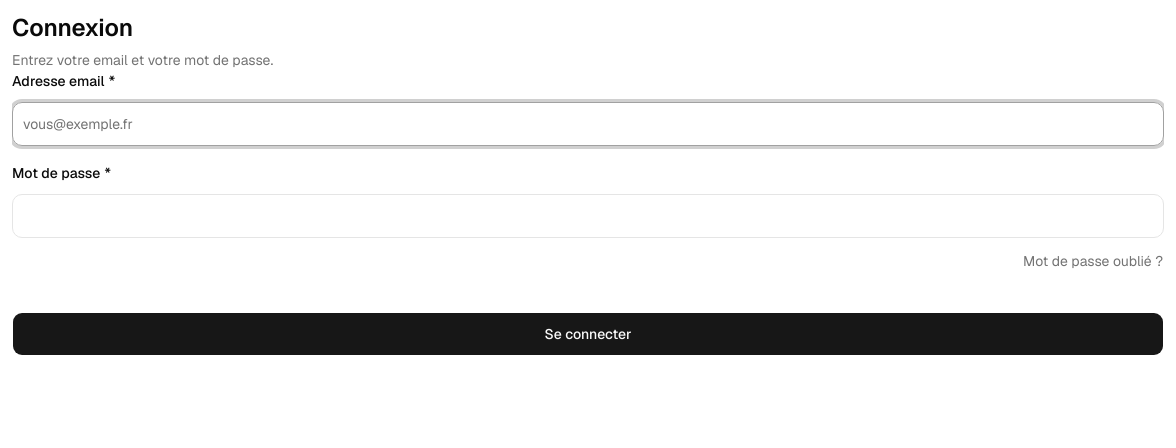
Test case: SignInScreen › shows a French message for INVALID_EMAIL_OR_PASSWORD and stays on the form
Type "olivier@exemple.fr" into the field labelled "Adresse email".
click(588, 124); type("olivier@exemple.fr")  # box [12,102,1164,146]
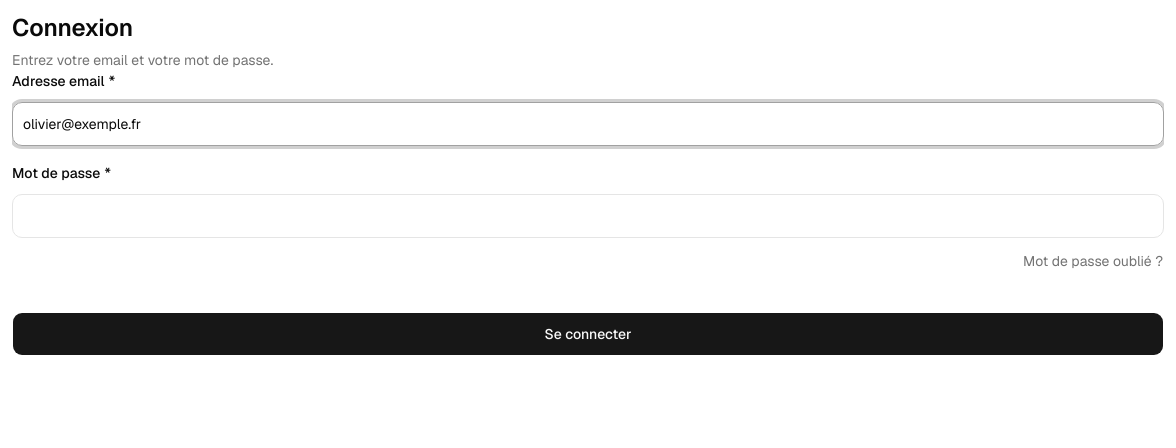
Type "motdepasse123" into the password field labelled "Mot de passe".
click(588, 216); type("motdepasse123")  # box [12,194,1164,238]
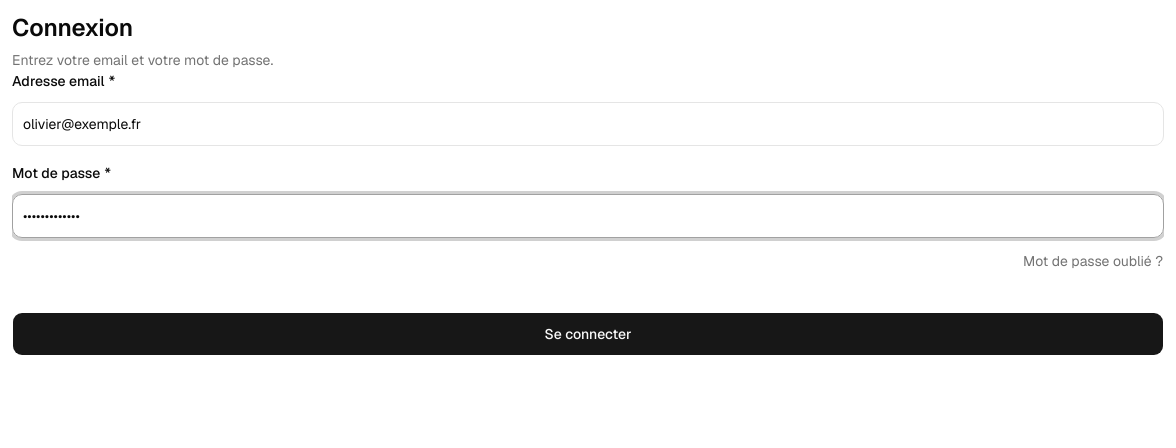
Click the button "Se connecter".
click(588, 334)  # box [12,312,1164,356]
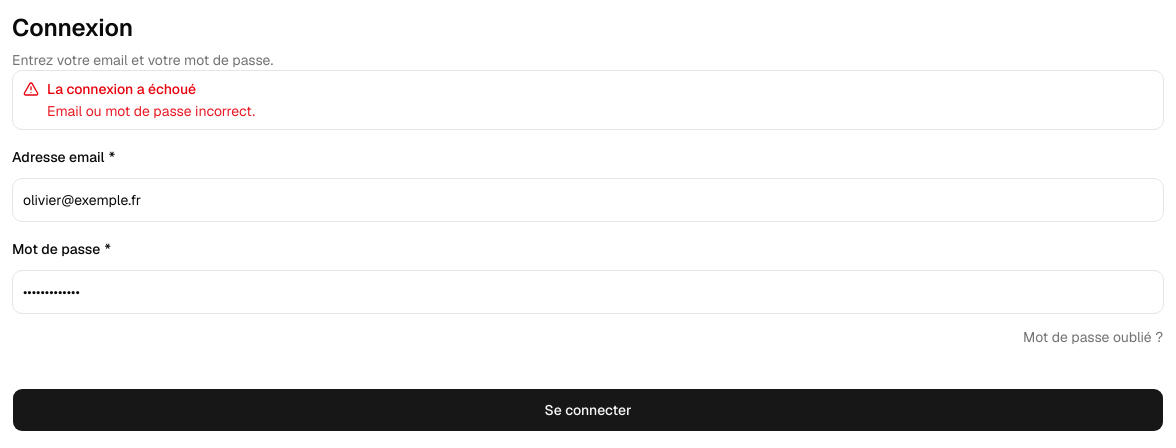
Expected: the text "Email ou mot de passe incorrect." is shown, [47,102,255,120]
